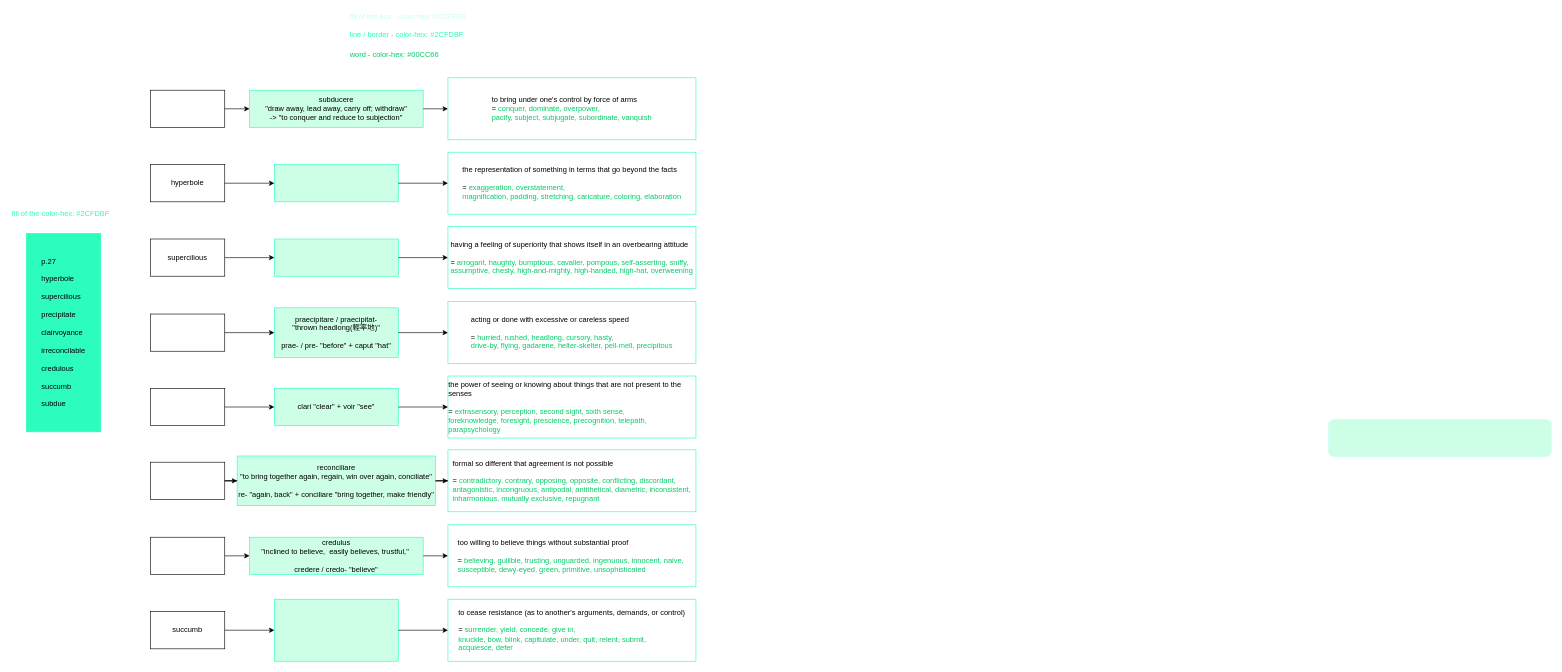
The diagram is 1562 pixels wide and 672 high, and some of its shapes have lost their labels. Here are the shapes that lost their labels. From the top down, the box of each, then its label:
(150, 90, 225, 127): subdue
(274, 164, 398, 202): huperbolē "excess" huper "above" + ballein "to throw"
(274, 238, 398, 276): superciliosus "hauty" supercilium "eyebrow"
(150, 313, 225, 351): precipitate
(150, 388, 225, 426): clairvoyance
(1328, 419, 1552, 457): log transformation
(150, 462, 225, 499): irreconcilable
(150, 537, 225, 574): credulous
(274, 599, 398, 661): succumbere "bring low, overwhelm" sub- "under" + cubare "to lie"
